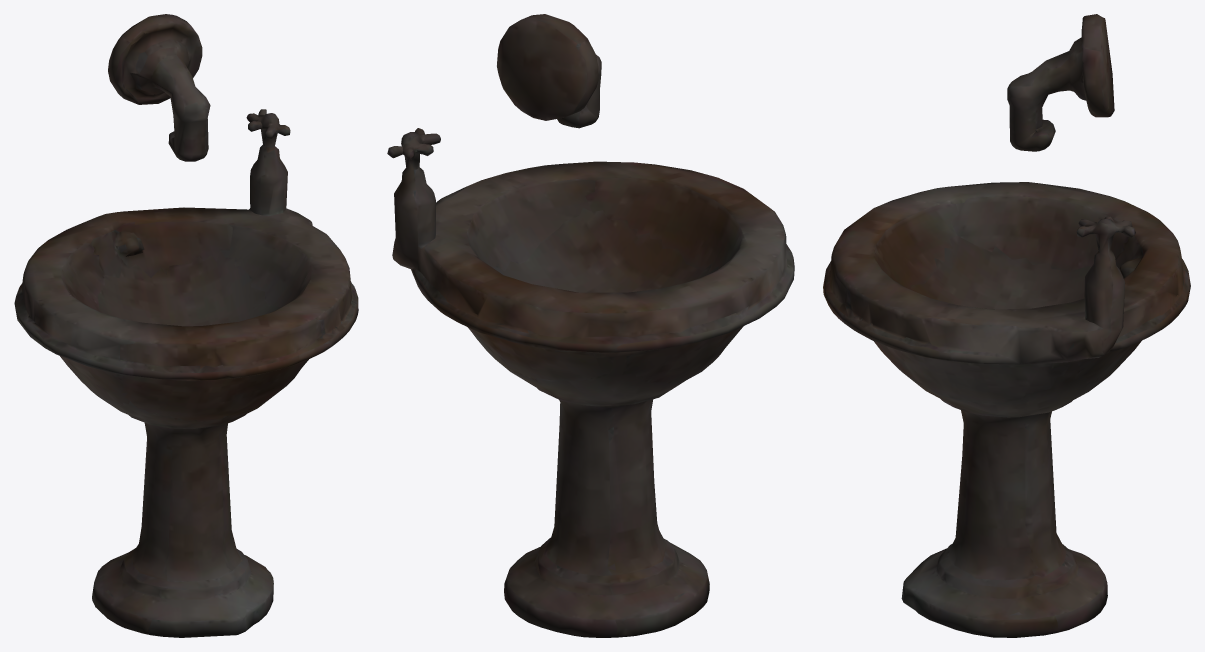
File: weathered-iron-washbasin-v001.glb
The picture shows the model from 3 angles, left to right: view 1: azimuth 30°, elevation 25°; view 2: azimuth 150°, elevation 25°; view 3: azimuth 270°, elevation 25°; orthographic projection. The views are drawn at different scales.
Visible parts, largest first — view 1: weathered-iron-washbasin; view 2: weathered-iron-washbasin; view 3: weathered-iron-washbasin.
Boxes of the visible parts, x1,y1,x2,y2 form: weathered-iron-washbasin: (14, 14, 358, 637); weathered-iron-washbasin: (387, 14, 794, 637); weathered-iron-washbasin: (823, 14, 1190, 637).
Bounding box in the file's own units: 0.5592 × 0.9781 × 0.5574.
1 material, 1 textured.
